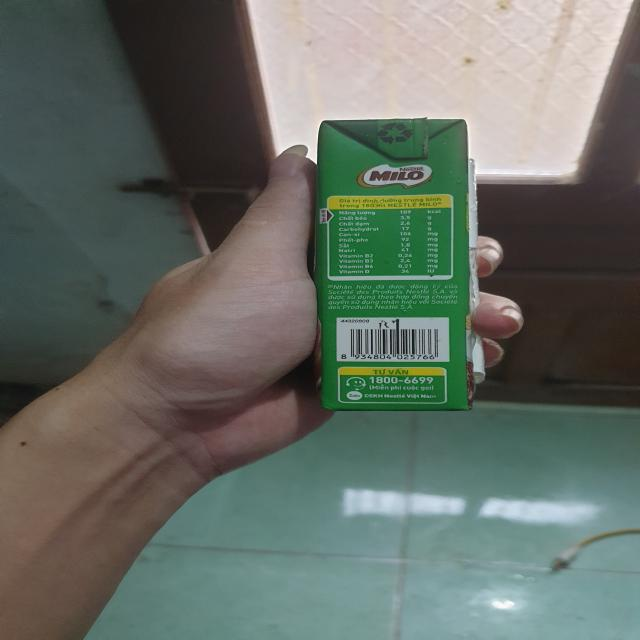Milo: (314, 117, 489, 420)
